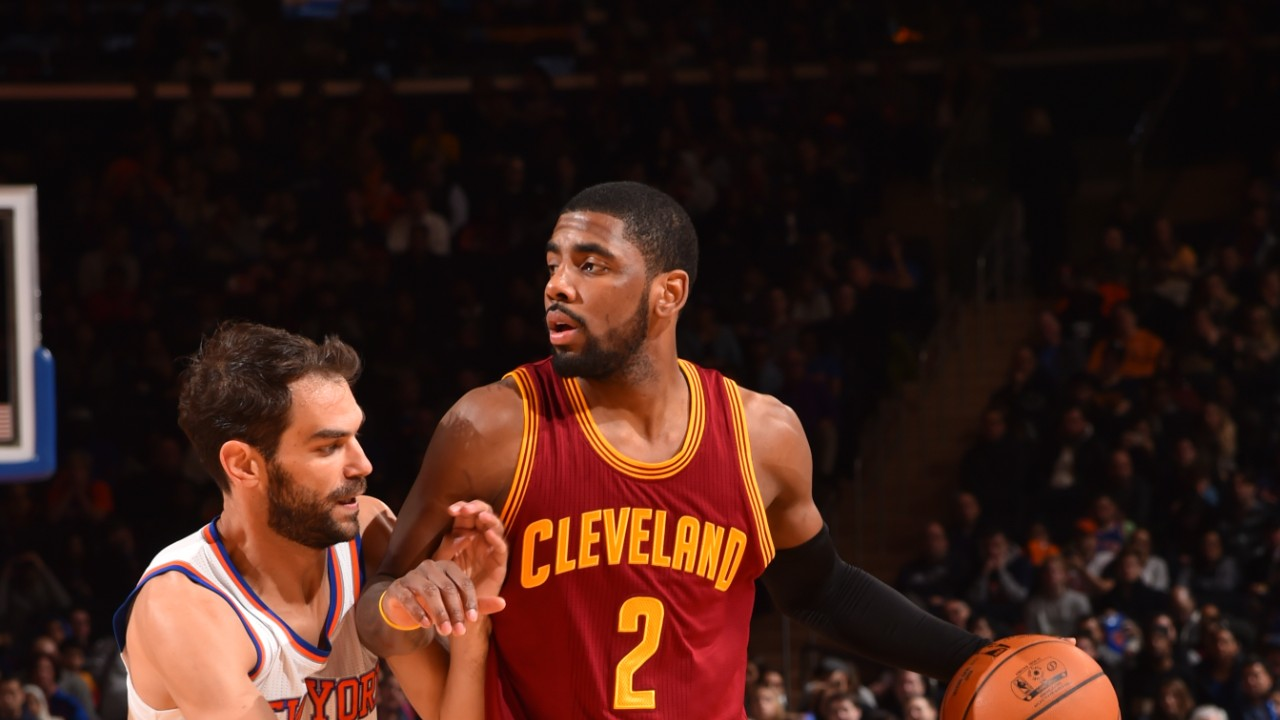basketball: (935, 620, 1131, 720)
